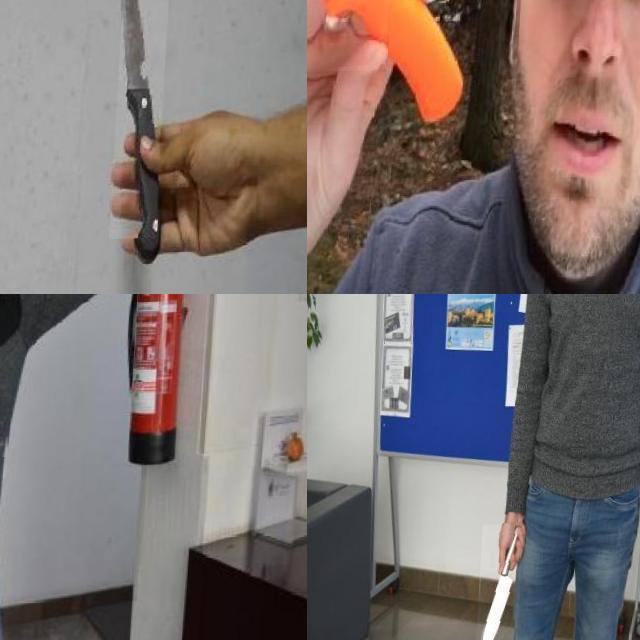-: (307, 0, 421, 164), (113, 0, 173, 241), (480, 525, 528, 640), (0, 438, 28, 480)
